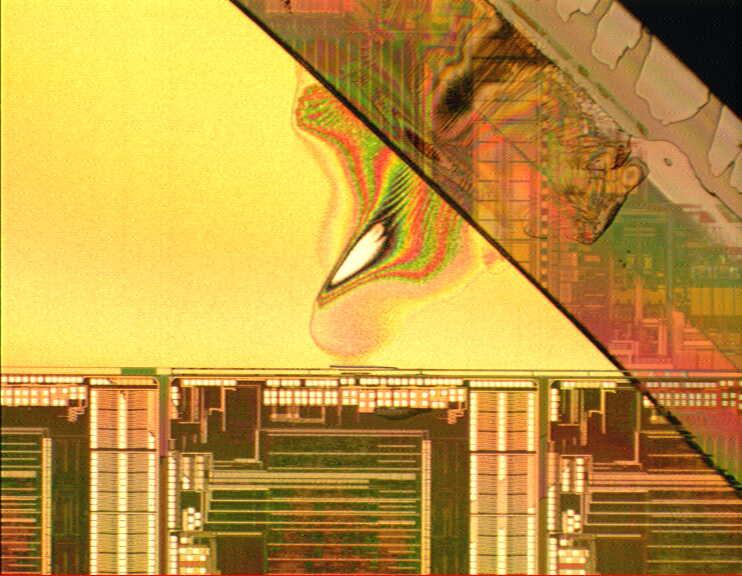COATING BAD: (224, 1, 742, 502)
